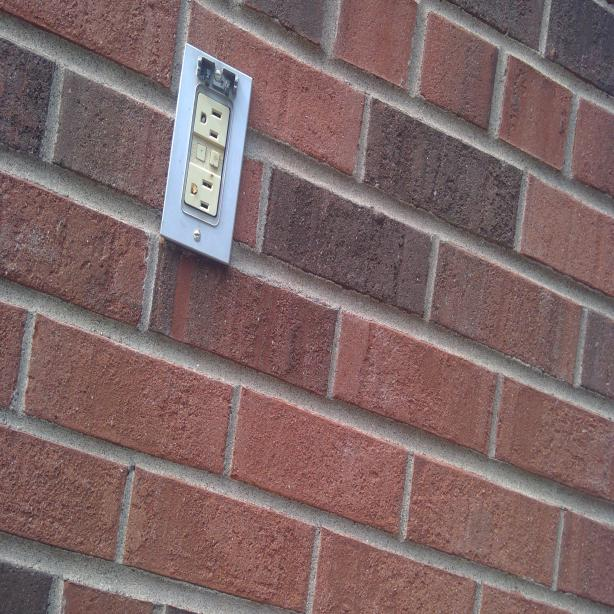typeb: (188, 169, 218, 220), (197, 97, 225, 143)
